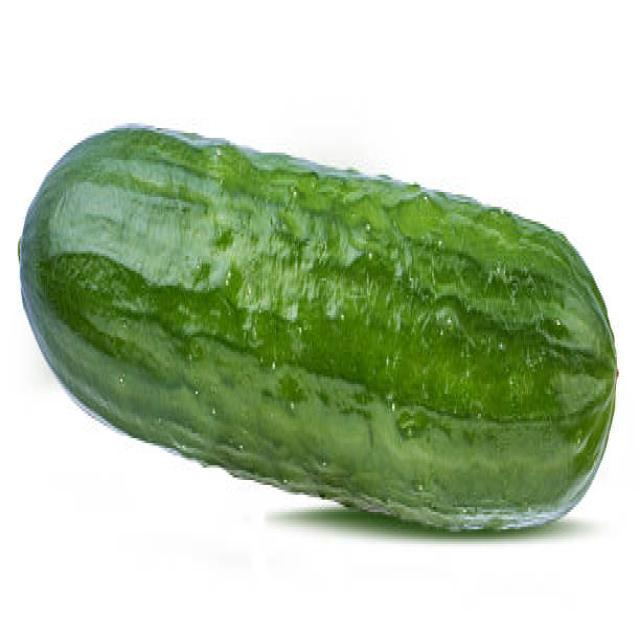cucumber: (20, 120, 616, 538)
